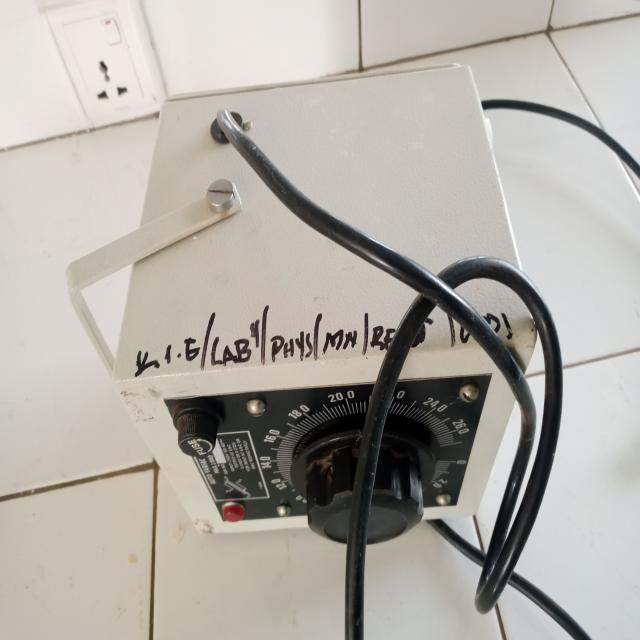Auto Variac AC Transformer 0-280 V: (107, 65, 542, 588)
